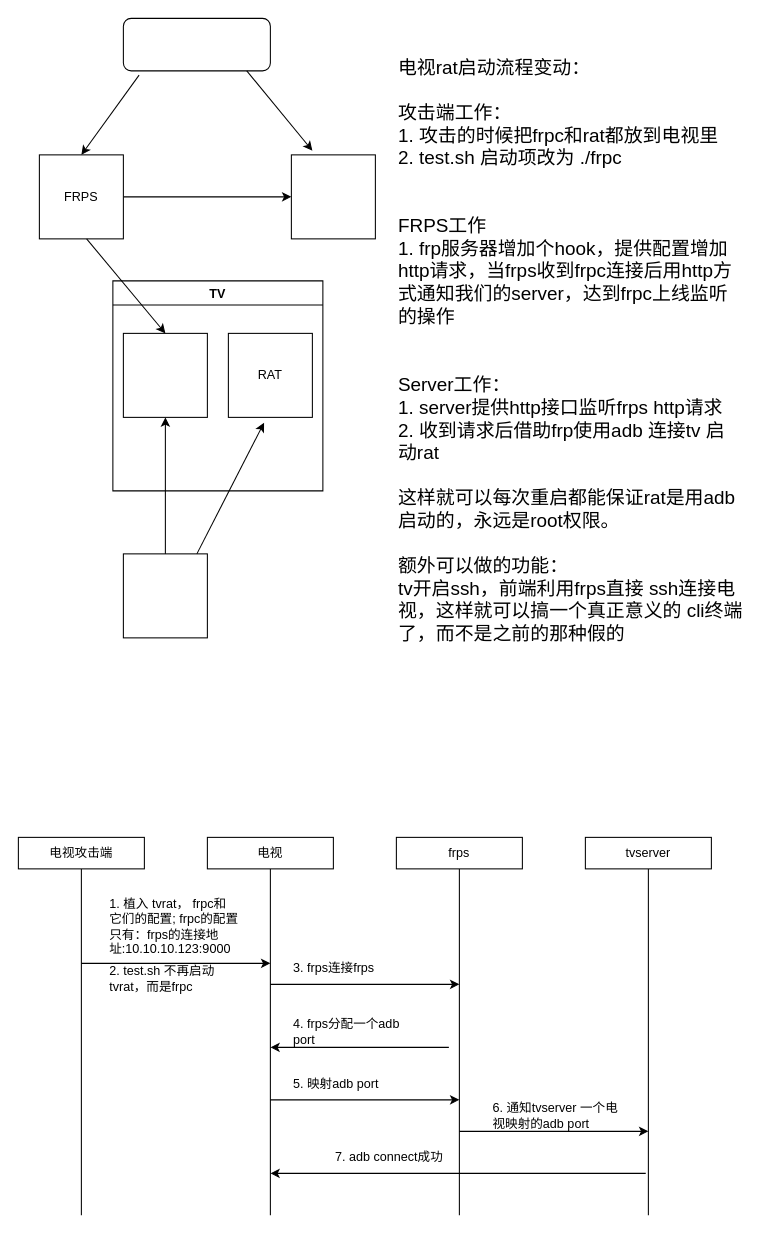
The diagram is 761 pixels wide and 1235 high, and some of its shapes have lost their labels. The centre of each missing label's shape, as x and y in pixels:
FRPC: the point at 164,374
Server: the point at 332,196
前端: the point at 196,44
攻击端: the point at 164,595
